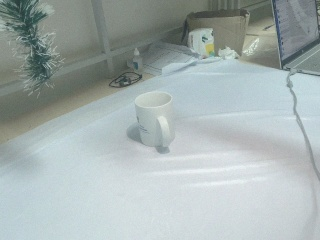box: (185, 8, 248, 60)
cup: (130, 91, 177, 149)
